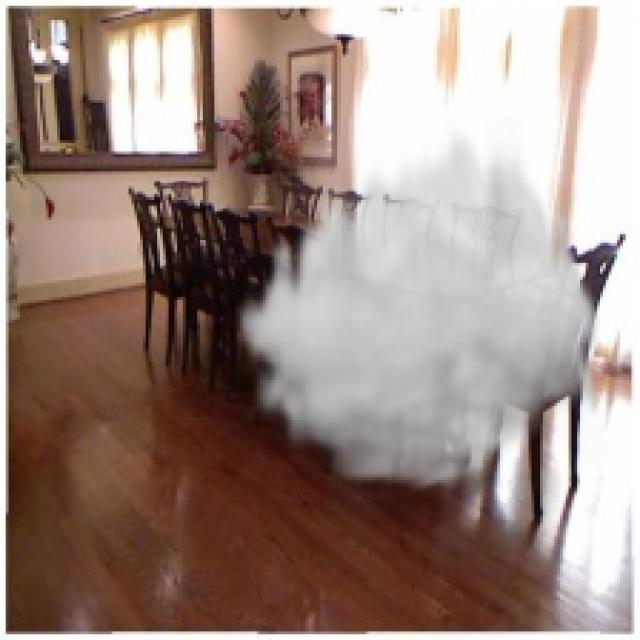smoke: (231, 117, 603, 497)
